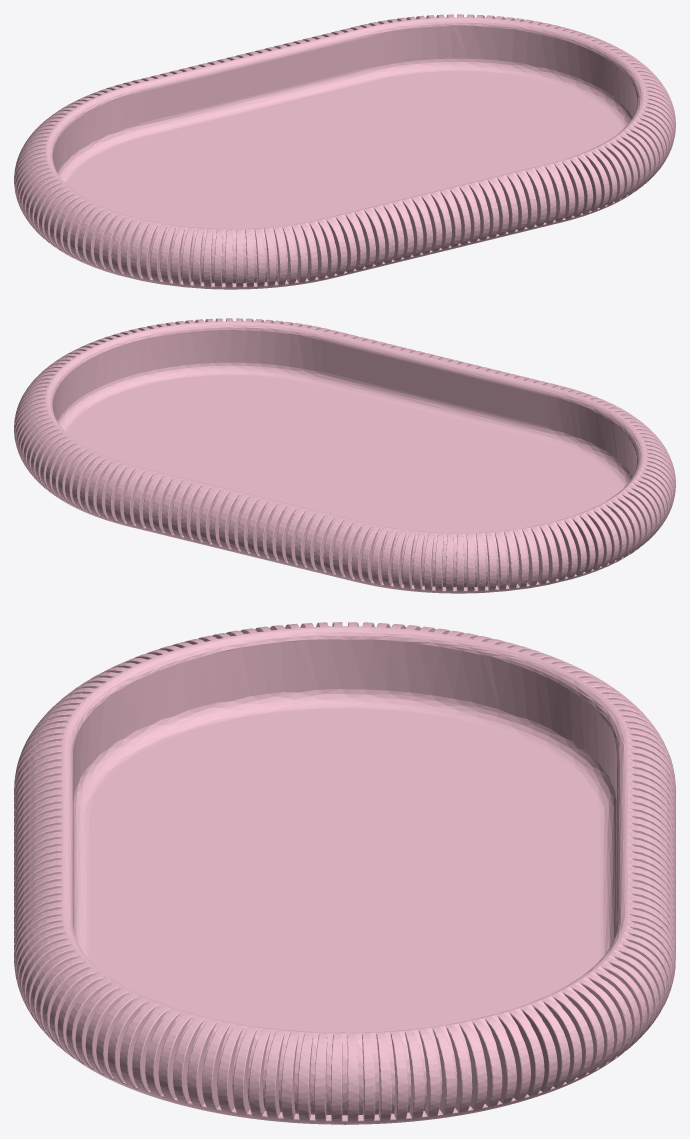
The model's file is bandeja-japandi.glb.
3 views of the same model, one above another, from view 1: azimuth 30°, elevation 25°; view 2: azimuth 150°, elevation 25°; view 3: azimuth 270°, elevation 25° (orthographic). The views are drawn at different scales.
Visible parts, largest first — view 1: pieza; view 2: pieza; view 3: pieza.
Part boxes in pixels (x1,y1,x2,y2): pieza: (14, 14, 675, 289); pieza: (14, 318, 675, 593); pieza: (14, 622, 675, 1124).
Size of the model in its own units: 0.193 by 0.0157 by 0.1205.
